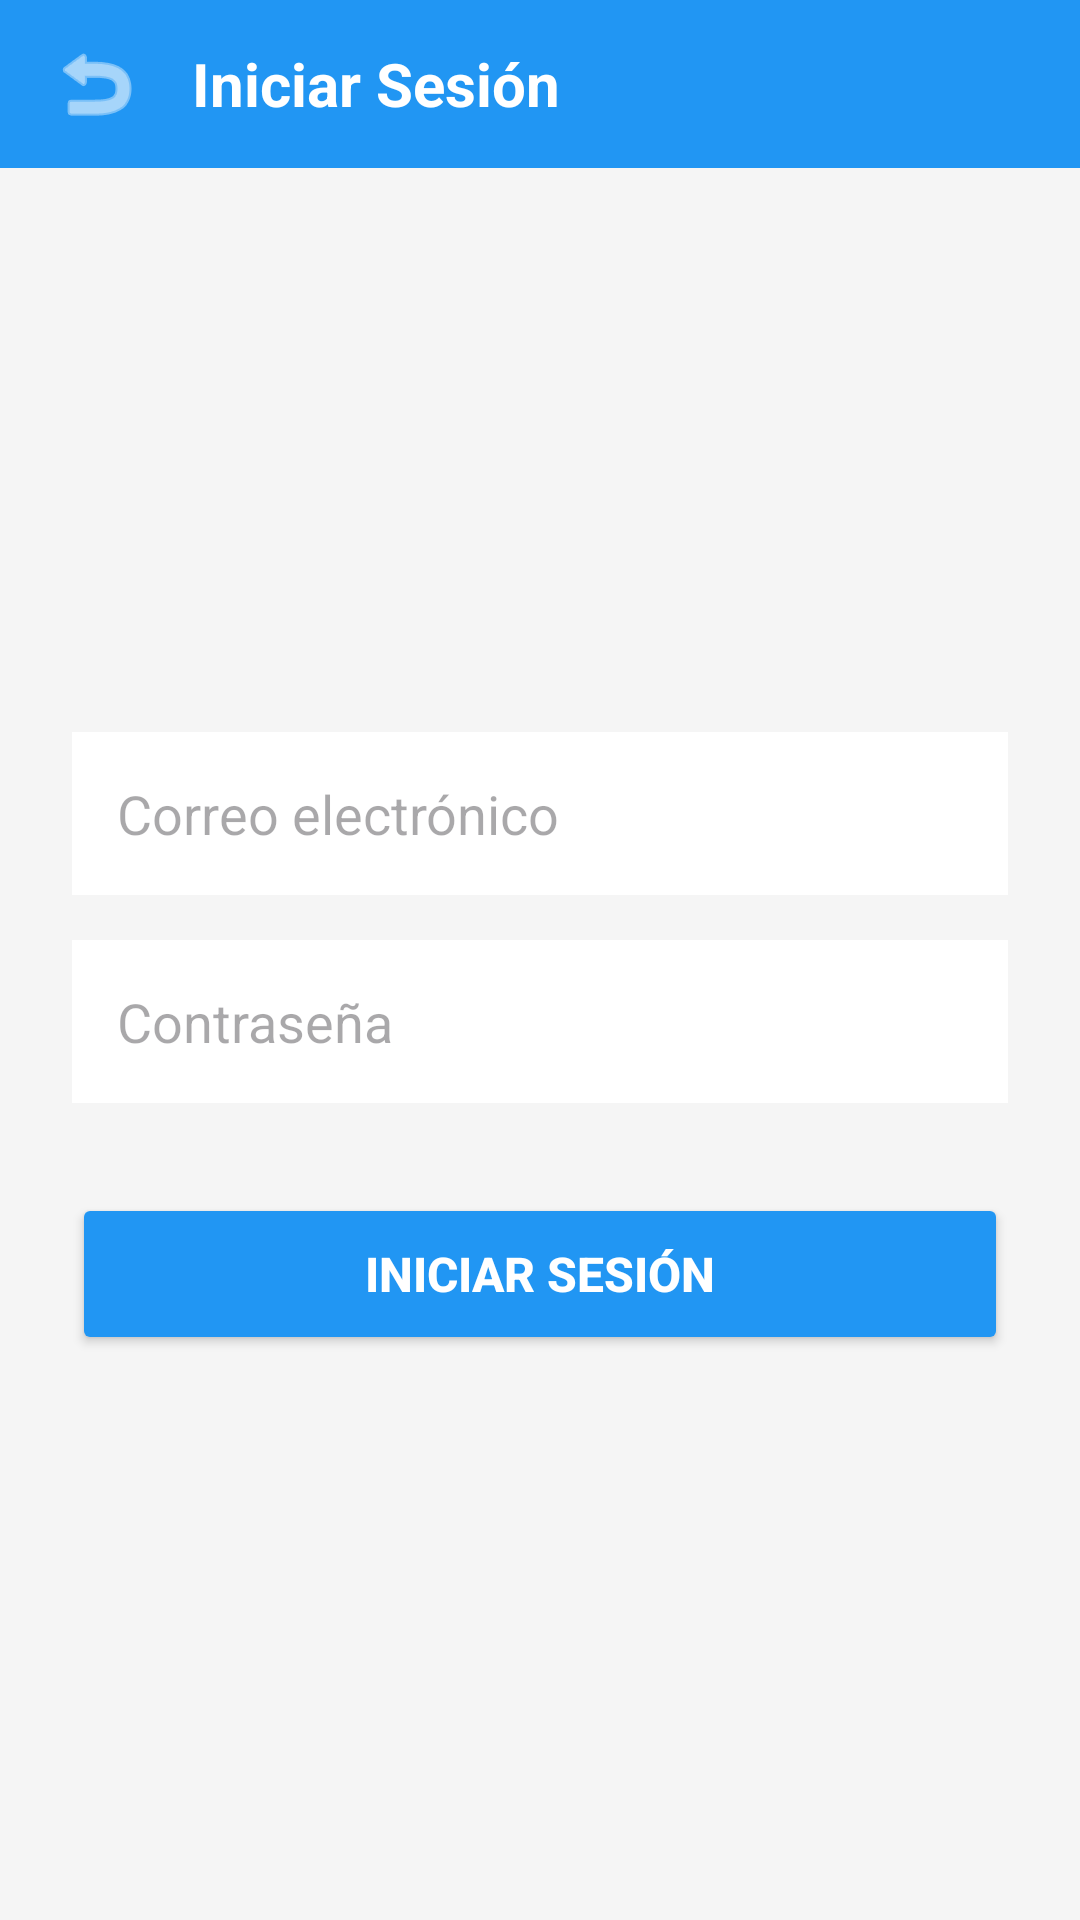

Icon bounding boxes for this 1080px×1920px phone screenshot, format (x1, y1, x2, y2):
Volver: (63, 53, 132, 116)
